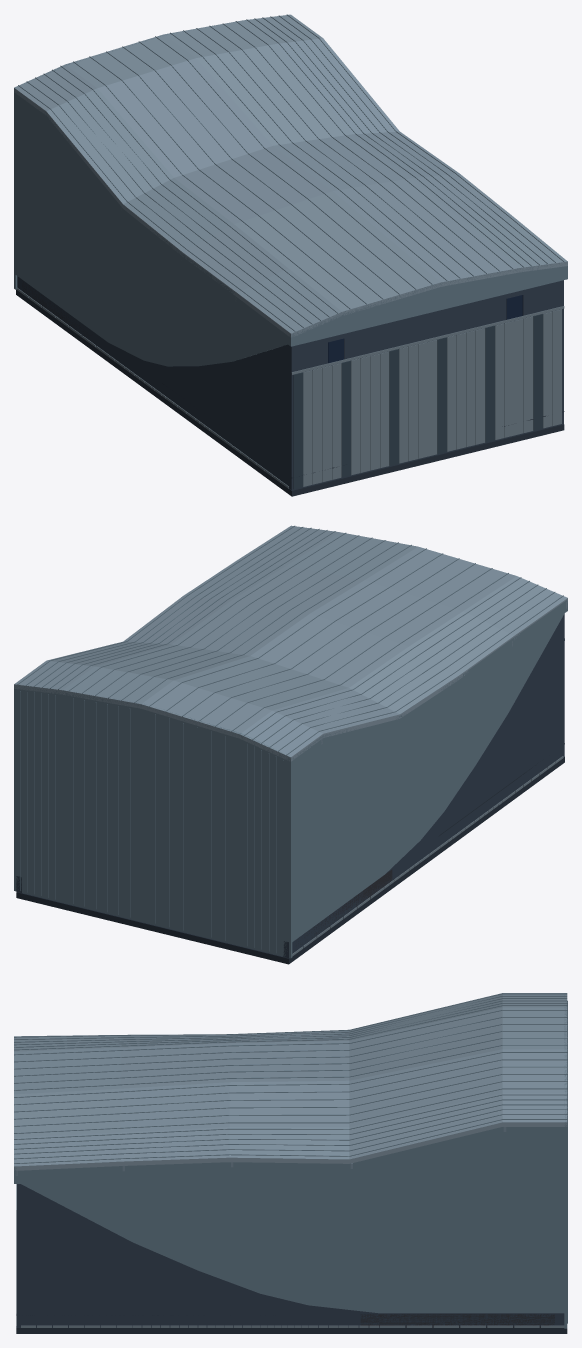
The model's file is shell.glb.
3 views of the same model, one above another, from view 1: azimuth 30°, elevation 25°; view 2: azimuth 150°, elevation 25°; view 3: azimuth 270°, elevation 25° (orthographic).
Parts seen in each view (by area): view 1: shell_roof_canopy_roof, shell_roof_canopy_upper_walls_roof_panels, shell_bowl_mass_cladding, shell_bowl_mass_concrete, shell_roof_canopy_standing_seams_roof_panels, shell_bowl_mass_seam, shell_field_floor_foundation, shell_vomitories_navy; view 2: shell_roof_canopy_upper_walls_roof_panels, shell_roof_canopy_roof, shell_roof_canopy_standing_seams_roof_panels, shell_bowl_mass_concrete, shell_field_floor_foundation, shell_bowl_mass_cladding, shell_field_floor_stage_light; view 3: shell_roof_canopy_roof, shell_roof_canopy_upper_walls_roof_panels, shell_bowl_mass_concrete, shell_roof_canopy_standing_seams_roof_panels, shell_field_floor_foundation, shell_field_floor_stage_light, shell_bowl_mass_cladding, shell_field_floor_concrete.
Part boxes in pixels (bbox=[...]): shell_roof_canopy_roof: bbox=[14, 14, 567, 337]; shell_roof_canopy_upper_walls_roof_panels: bbox=[14, 15, 567, 366]; shell_bowl_mass_cladding: bbox=[16, 287, 564, 488]; shell_bowl_mass_concrete: bbox=[17, 276, 563, 490]; shell_roof_canopy_standing_seams_roof_panels: bbox=[18, 14, 564, 331]; shell_bowl_mass_seam: bbox=[235, 314, 542, 489]; shell_field_floor_foundation: bbox=[16, 289, 564, 496]; shell_vomitories_navy: bbox=[328, 295, 522, 363]; shell_roof_canopy_upper_walls_roof_panels: bbox=[14, 600, 567, 958]; shell_roof_canopy_roof: bbox=[14, 525, 567, 761]; shell_roof_canopy_standing_seams_roof_panels: bbox=[17, 525, 563, 955]; shell_bowl_mass_concrete: bbox=[16, 614, 564, 958]; shell_field_floor_foundation: bbox=[16, 743, 564, 964]; shell_bowl_mass_cladding: bbox=[292, 638, 564, 956]; shell_field_floor_stage_light: bbox=[296, 869, 392, 945]; shell_roof_canopy_roof: bbox=[14, 993, 567, 1170]; shell_roof_canopy_upper_walls_roof_panels: bbox=[14, 993, 567, 1328]; shell_bowl_mass_concrete: bbox=[17, 1184, 564, 1327]; shell_roof_canopy_standing_seams_roof_panels: bbox=[14, 993, 567, 1323]; shell_field_floor_foundation: bbox=[16, 1313, 567, 1333]; shell_field_floor_stage_light: bbox=[360, 1314, 554, 1327]; shell_bowl_mass_cladding: bbox=[16, 1184, 564, 1327]; shell_field_floor_concrete: bbox=[276, 1315, 360, 1327].
Bounding box in the file's own units: 31.21 × 24.18 × 54.16.
